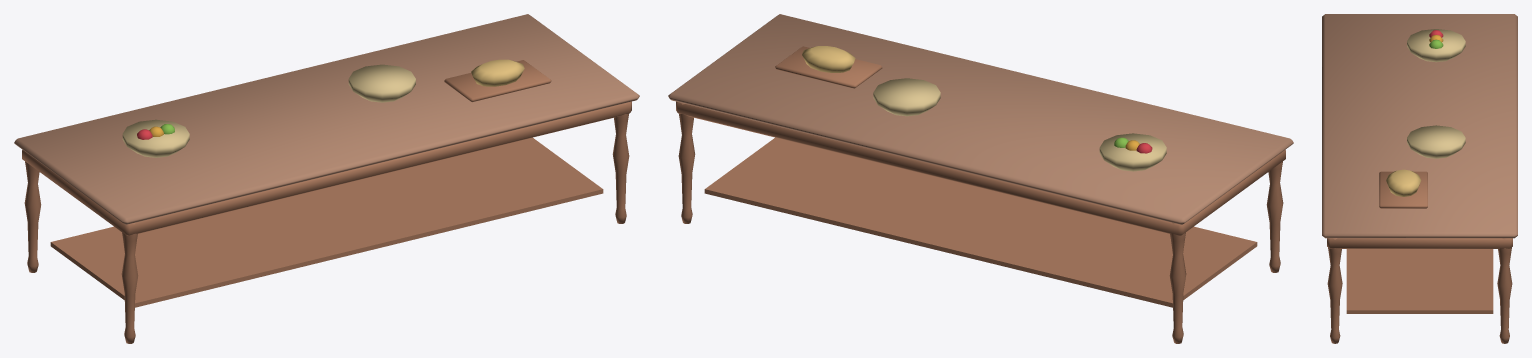
The model's file is table_kitchen.glb.
3 renders of one model, left to right at view 1: azimuth 30°, elevation 25°; view 2: azimuth 150°, elevation 25°; view 3: azimuth 270°, elevation 25°, orthographic. The views are drawn at different scales.
Parts seen in each view (by area): view 1: table_kitchen; view 2: table_kitchen; view 3: table_kitchen.
Part boxes in pixels (x1,y1,x2,y2): table_kitchen: (14,14,639,343); table_kitchen: (668,14,1293,343); table_kitchen: (1322,14,1517,343).
Size of what is drawn, in the model's own units: 3.2 by 0.9 by 1.2.
